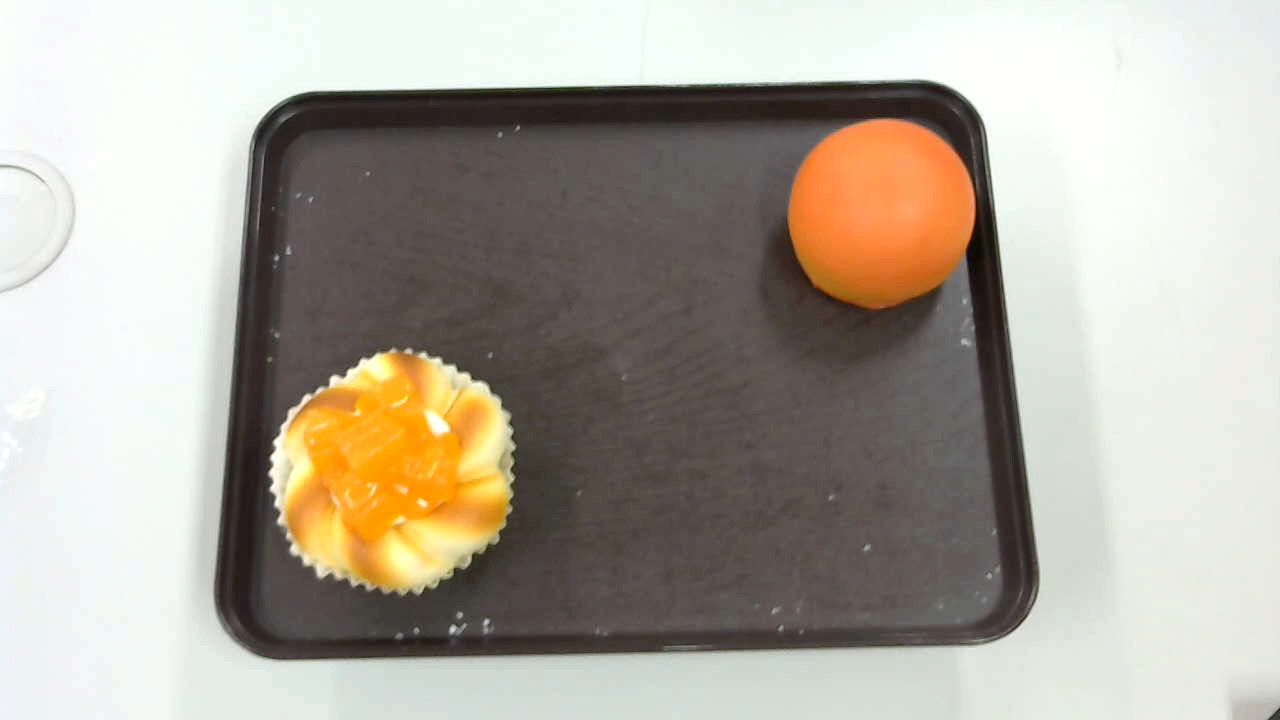bun: (788, 118, 976, 308)
mango tart: (269, 348, 515, 597)
